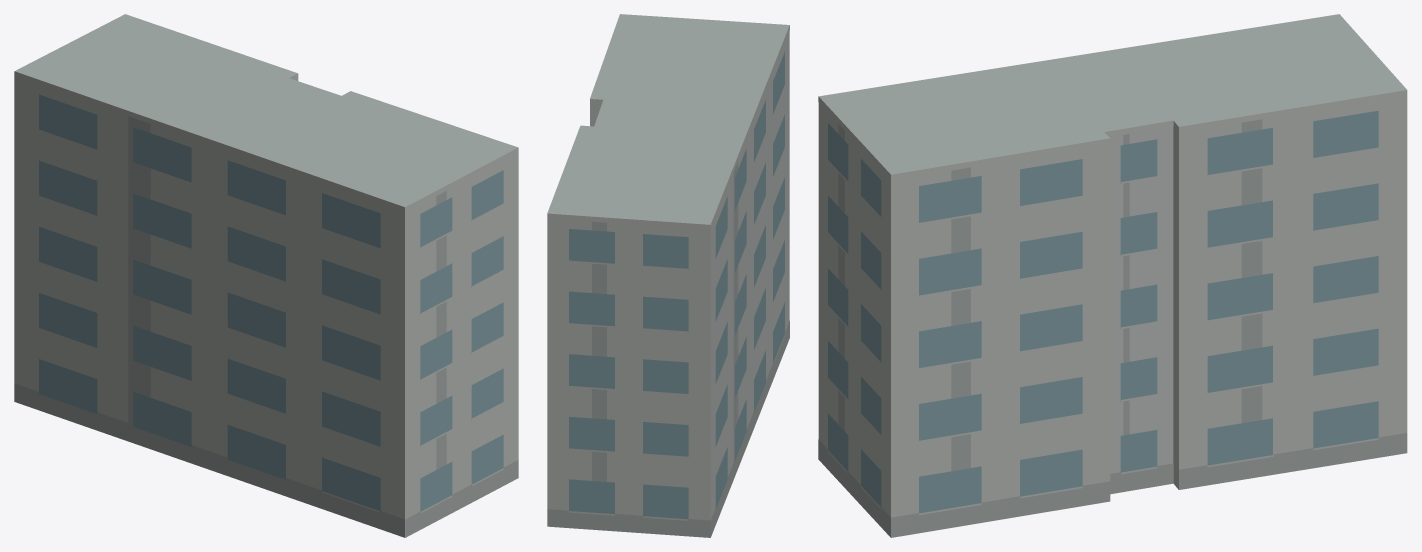
File: survey-upis-32866750.glb
3 renders of one model, left to right at view 1: azimuth 30°, elevation 25°; view 2: azimuth 150°, elevation 25°; view 3: azimuth 270°, elevation 25°, orthographic. The views are drawn at different scales.
Parts seen in each view (by area): view 1: survey-upis-32866750.tmp; view 2: survey-upis-32866750.tmp; view 3: survey-upis-32866750.tmp.
Boxes of the visible parts, x1,y1,x2,y2 form: survey-upis-32866750.tmp: (14,14,518,537); survey-upis-32866750.tmp: (547,14,789,537); survey-upis-32866750.tmp: (818,14,1407,537).
Bounding box in the file's own units: 14.25 × 15 × 22.05.
